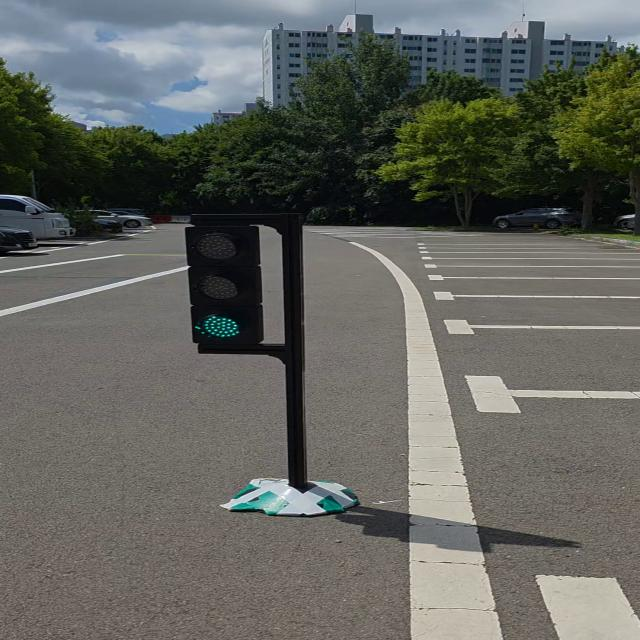green: (186, 213, 266, 349)
